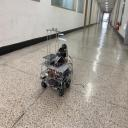cart: (40, 60, 74, 96)
